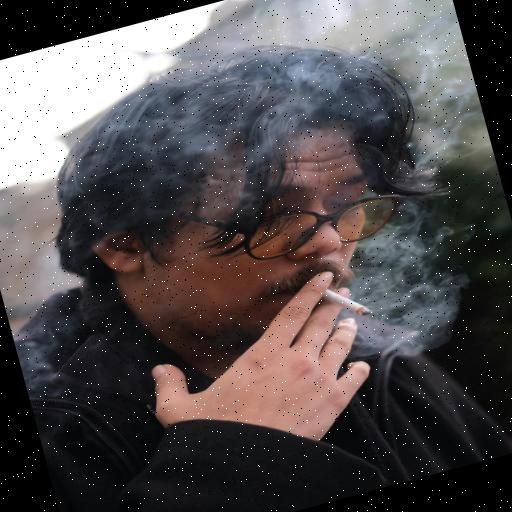terdeteksi merokok: (210, 161, 413, 370)
